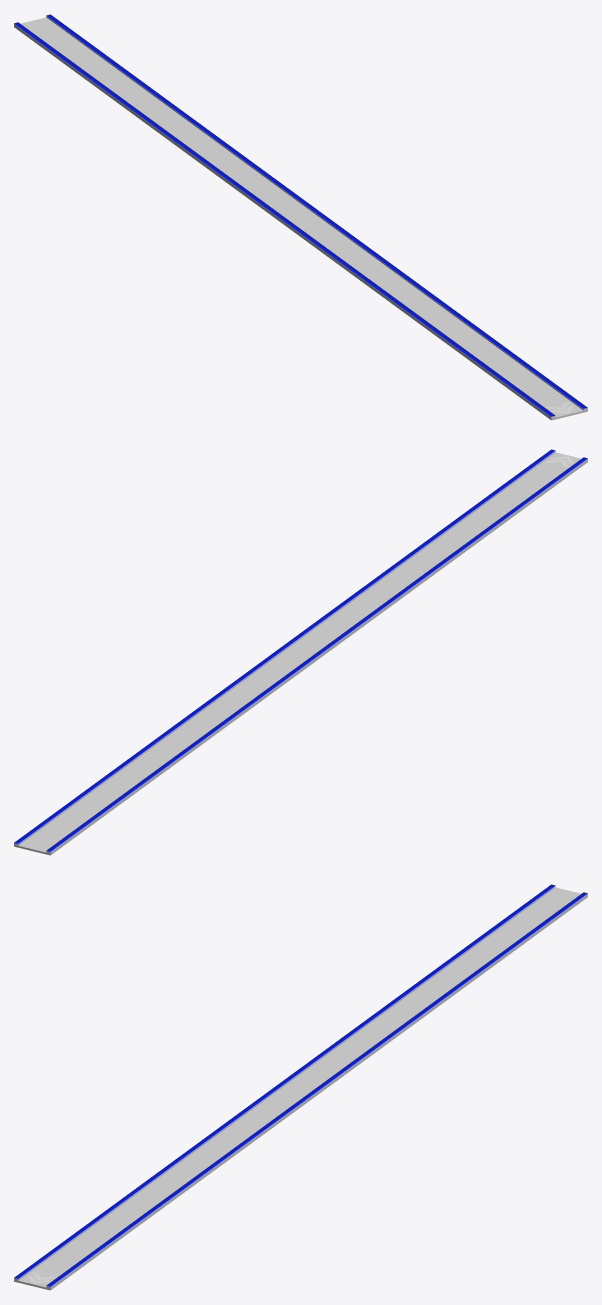
The model's file is doroga.fbx.
3 views of the same model, one above another, from view 1: azimuth 30°, elevation 25°; view 2: azimuth 150°, elevation 25°; view 3: azimuth 330°, elevation 25° (orthographic).
Parts seen in each view (by area): view 1: Cube; view 2: Cube; view 3: Cube.
Boxes of the visible parts, left/top/right/bottom form: Cube: left=14, top=14, right=587, bottom=420; Cube: left=14, top=449, right=587, bottom=855; Cube: left=14, top=884, right=587, bottom=1290.
Bounding box in the file's own units: 786 × 79.13 × 20000.
